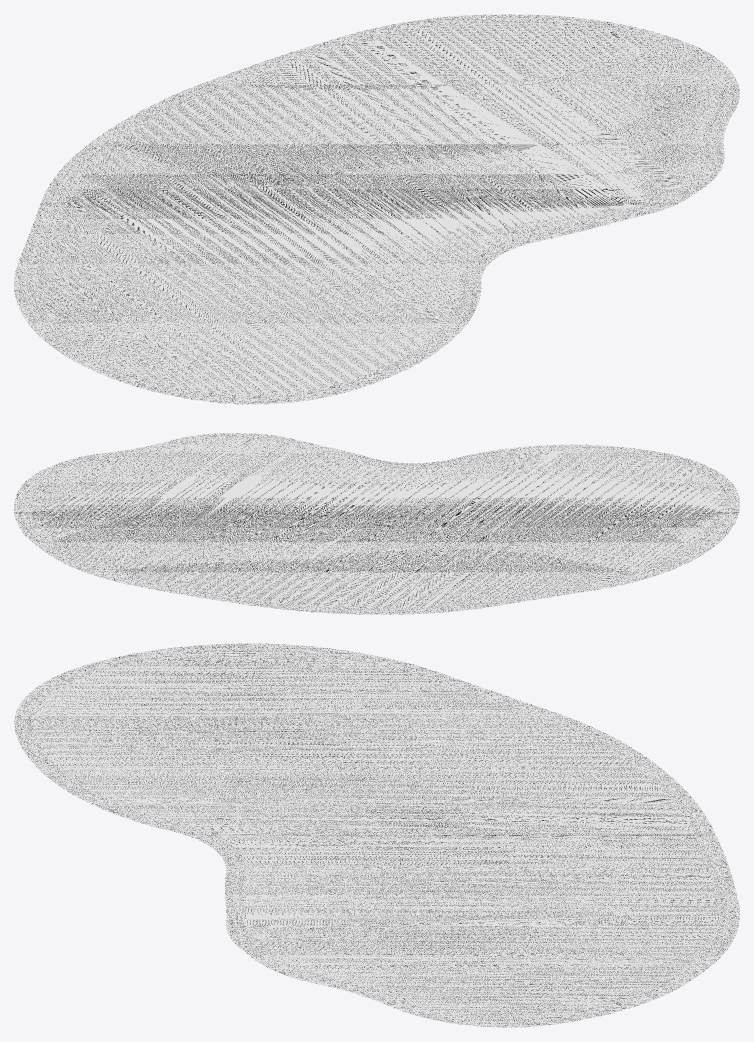
The model's file is Teknofest Virajlı Yol.dae.
3 views of the same model, one above another, from view 1: azimuth 30°, elevation 25°; view 2: azimuth 150°, elevation 25°; view 3: azimuth 270°, elevation 25° (orthographic). The views are drawn at different scales.
Parts seen in each view (by area): view 1: group_0 (×5); view 2: group_0 (×4); view 3: group_0 (×5).
Boxes of the visible parts, x1=… form: group_0 (×5): x1=14, y1=14, x2=739, y2=404; group_0 (×4): x1=14, y1=433, x2=739, y2=614; group_0 (×5): x1=14, y1=643, x2=739, y2=1027.
Size of the model in its own units: 13786 by 11011 by 6.83e-13.
Materials: 3 (1 with a texture image).
